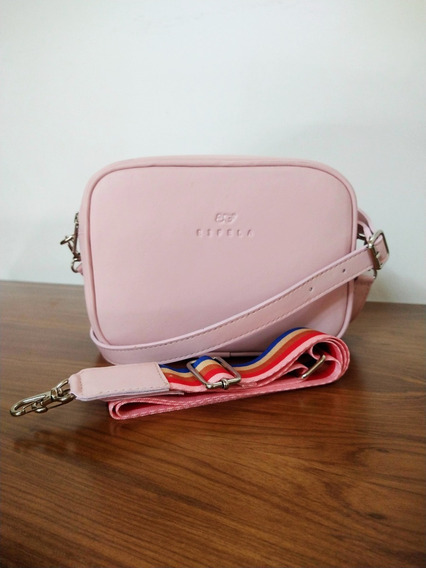cartera: (69, 156, 388, 371)
